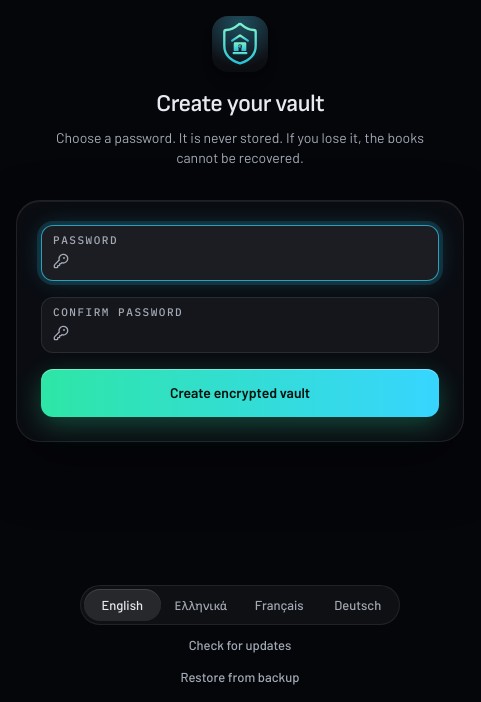
Test case: UnlockScreen form errors › a mismatch error goes once Password is edited
Type "alpha-alpha" into the password field labelled "Password" at (240, 261), box [53,249,427,273]
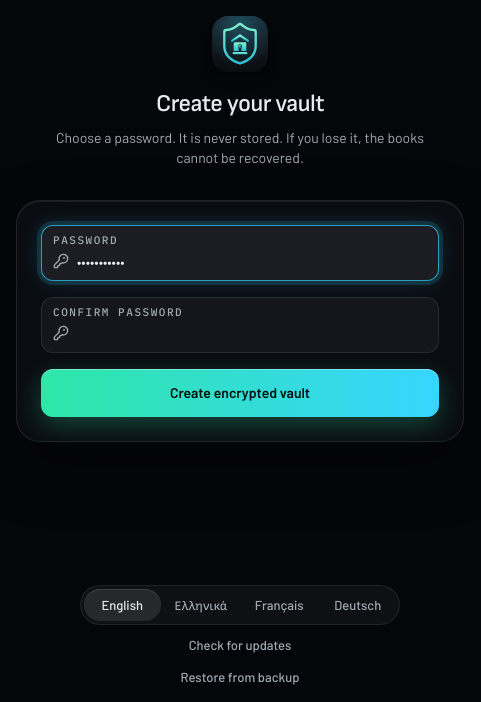
Type "alpha-beta" into the password field labelled "Confirm password" at (240, 333), box [53,321,427,345]
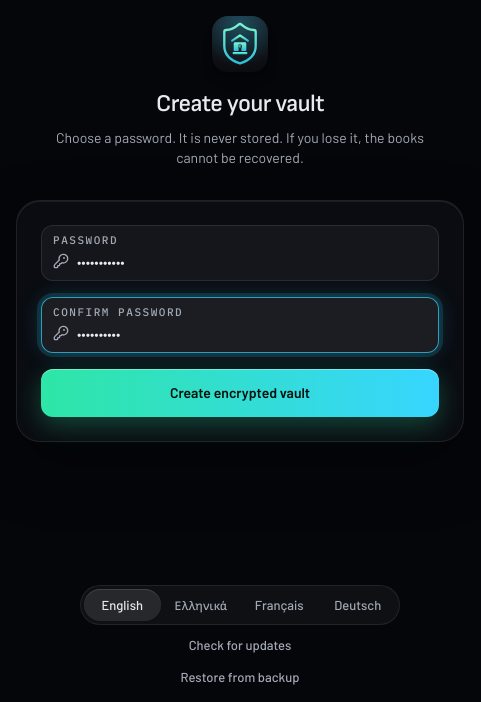
Click the button "Create encrypted vault" at (240, 393), box [41,369,439,417]
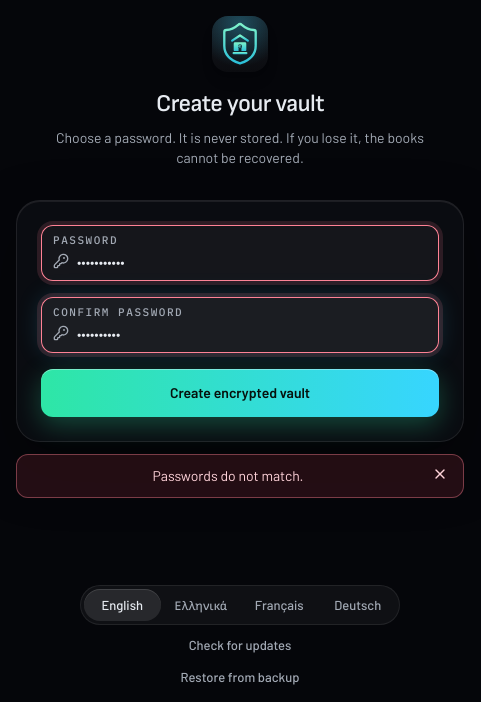
Now the message reads "Passwords do not match.", box [153,467,304,484]
Type "x" into the password field labelled "Password" at (240, 261), box [53,249,427,273]
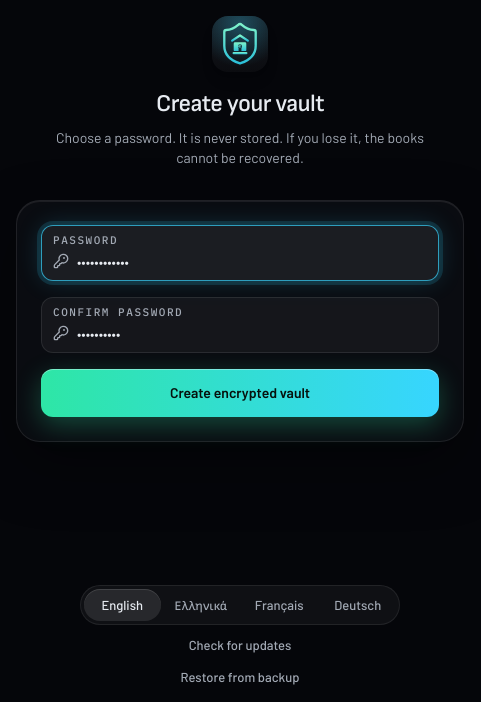
Now the message "Passwords do not match." is gone
